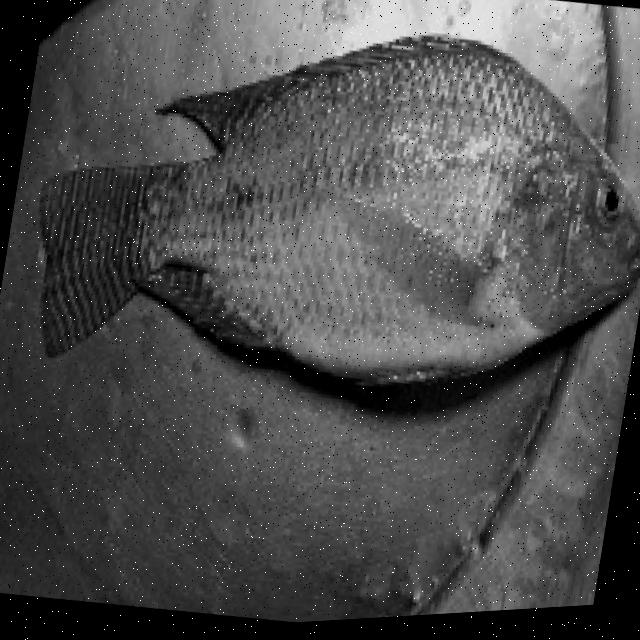Fresh: (70, 0, 640, 476)
